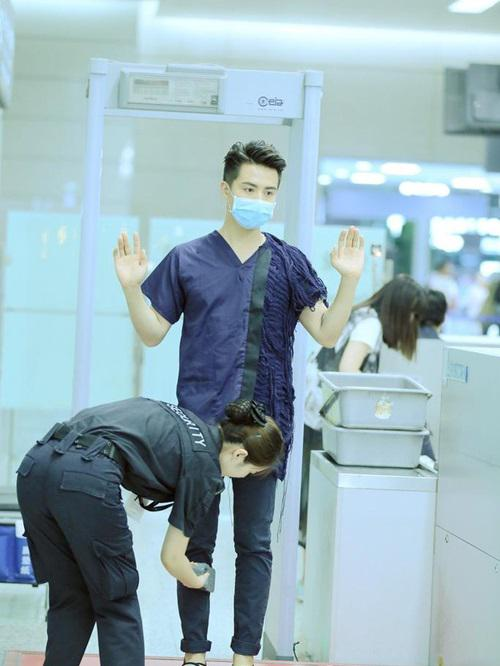OK: (229, 174, 279, 227)
